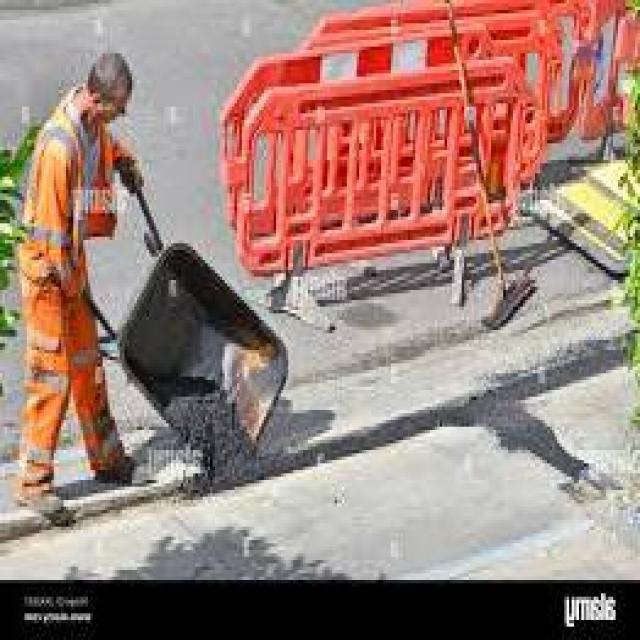Reflective-Jacket: (0, 83, 117, 489), (7, 83, 110, 277)
Safety-Helmet: (81, 40, 144, 117)
